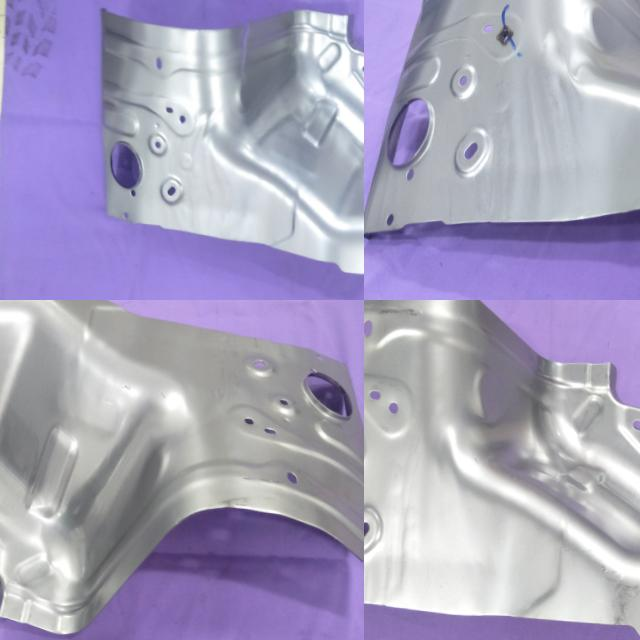Defect: (230, 22, 259, 89)
Healthy: (364, 0, 640, 262)
rust: (178, 490, 270, 518), (365, 300, 441, 325)
